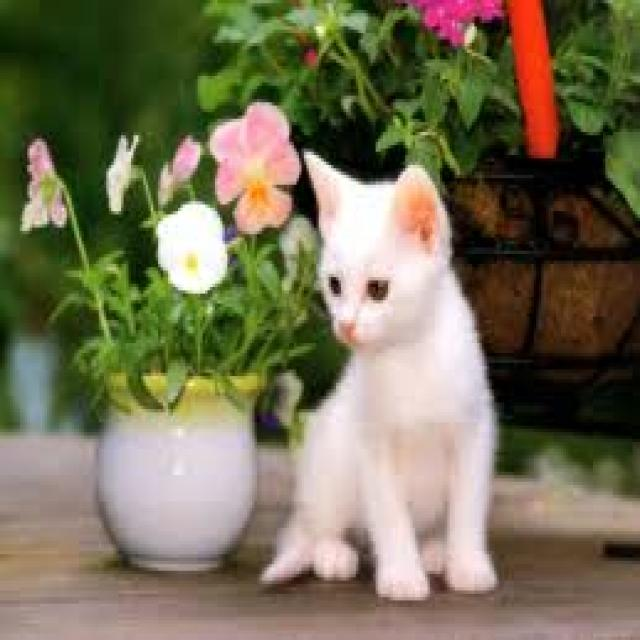Cat: (256, 143, 507, 606)
